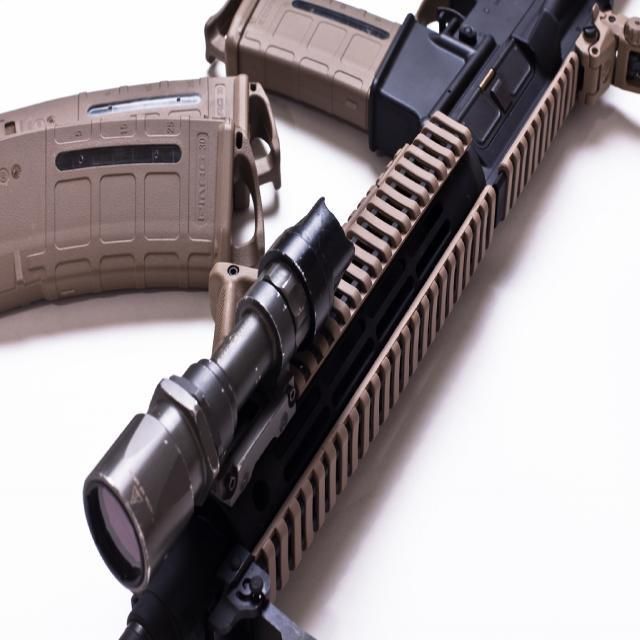weapon: (100, 0, 640, 640)
